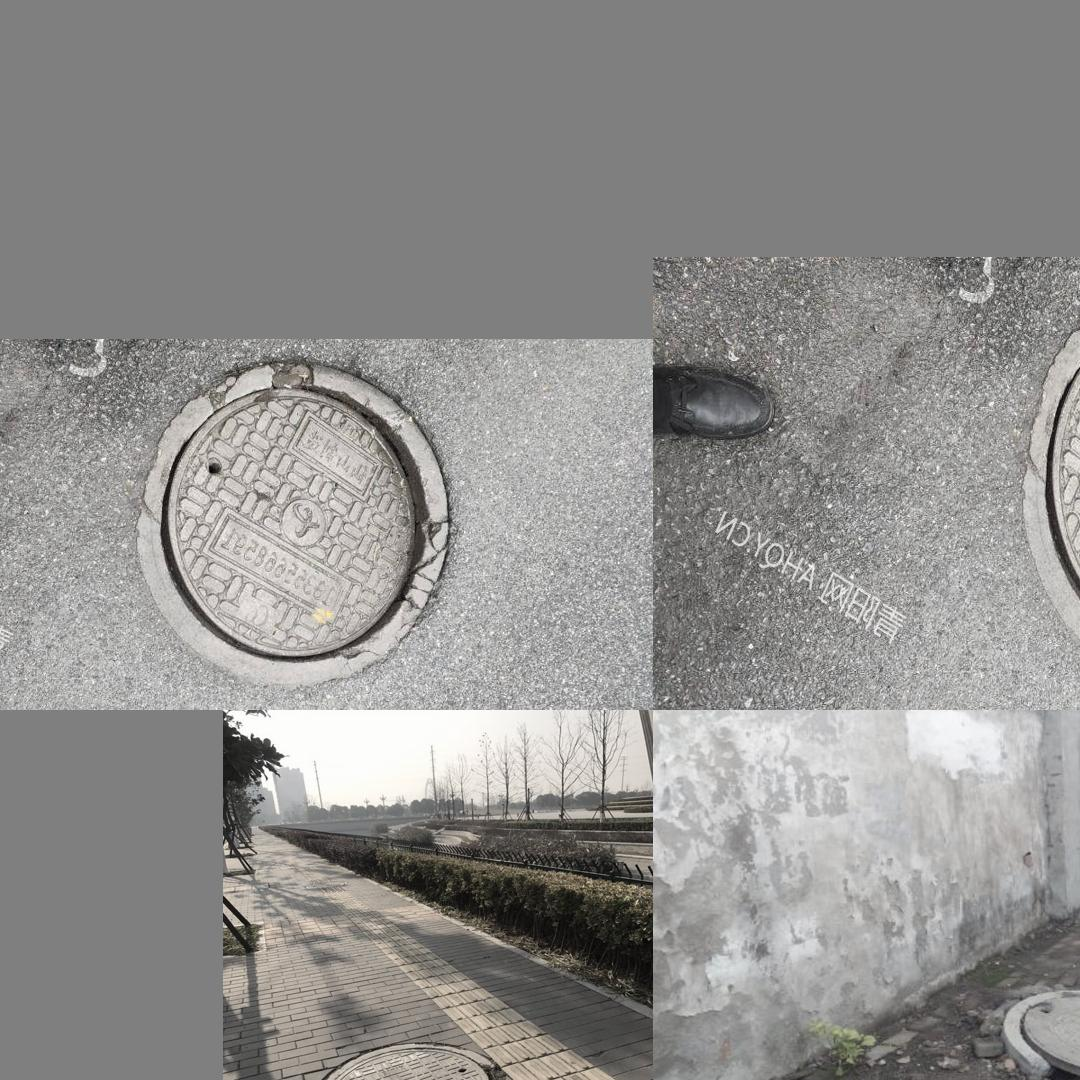circle: (117, 359, 492, 683), (998, 275, 1080, 692), (306, 1042, 508, 1080), (998, 988, 1080, 1080)
